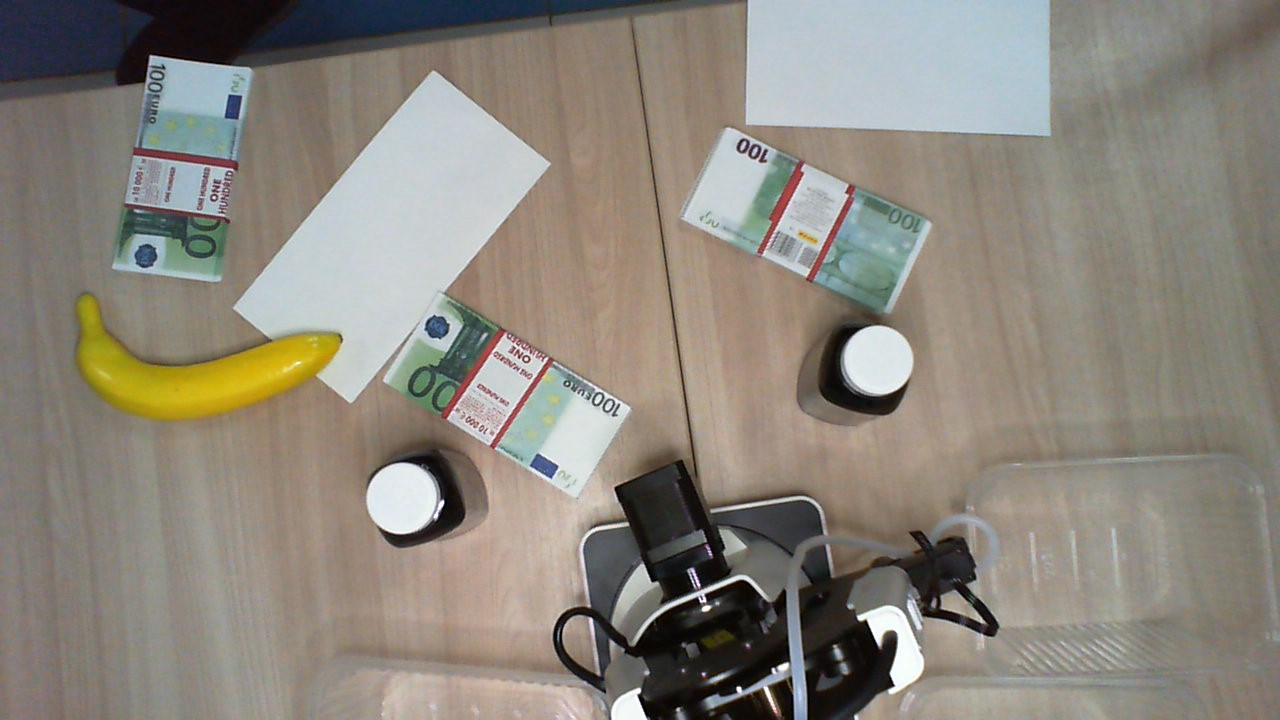bottle: (815, 319, 918, 425), (363, 448, 459, 546)
convert: (232, 68, 552, 405), (743, 1, 1052, 138)
money: (378, 293, 633, 496), (677, 126, 932, 314), (108, 55, 252, 285)
